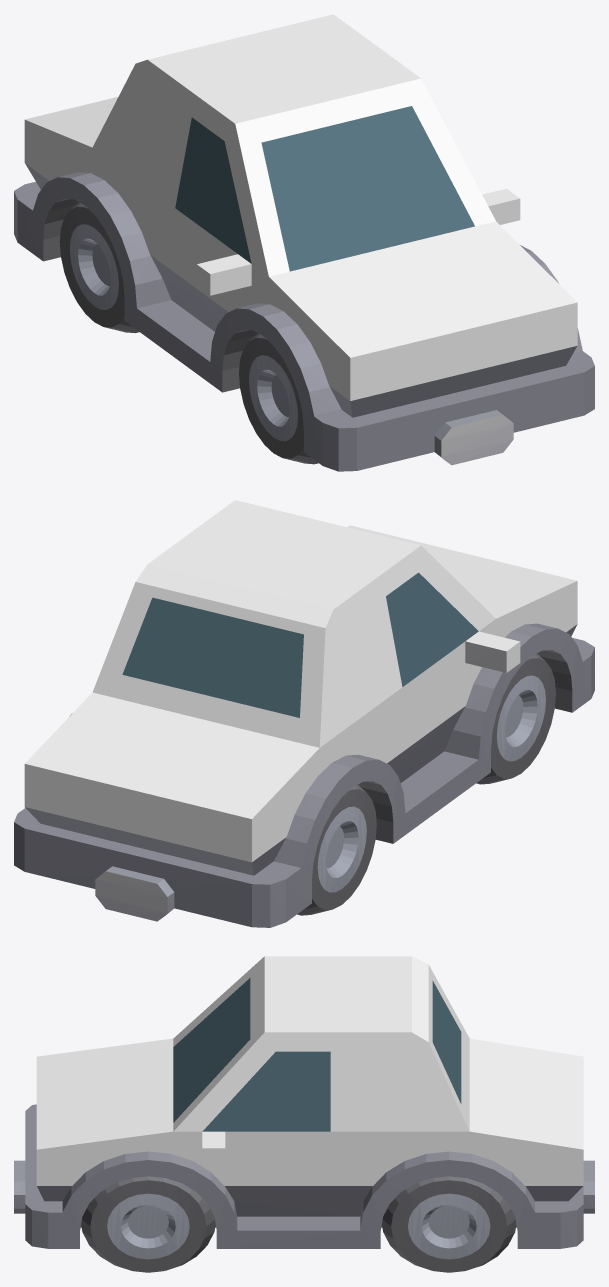
Rendered from saloon.glb.
3 views of the same model, one above another, from view 1: azimuth 30°, elevation 25°; view 2: azimuth 150°, elevation 25°; view 3: azimuth 270°, elevation 25° (orthographic). The views are drawn at different scales.
Parts seen in each view (by area): view 1: body, trim, head; view 2: body, trim, tail; view 3: body, trim, head.
Part boxes in pixels (x1,y1,x2,y2): body: [24, 14, 577, 400]; trim: [14, 106, 594, 471]; head: [336, 302, 577, 379]; body: [24, 500, 577, 862]; trim: [14, 572, 594, 927]; tail: [24, 764, 251, 840]; body: [36, 956, 583, 1185]; trim: [14, 978, 594, 1272]; head: [36, 1146, 59, 1167].
Bounding box in the file's own units: 2.43 × 2.11 × 4.7.
